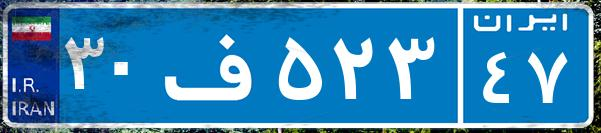0: (110, 28, 158, 105)
2: (330, 28, 385, 110)
3: (385, 28, 445, 110), (57, 26, 110, 107)
4: (475, 38, 525, 113)
5: (273, 28, 330, 110)
7: (525, 38, 570, 115)
ف: (158, 15, 273, 115)
